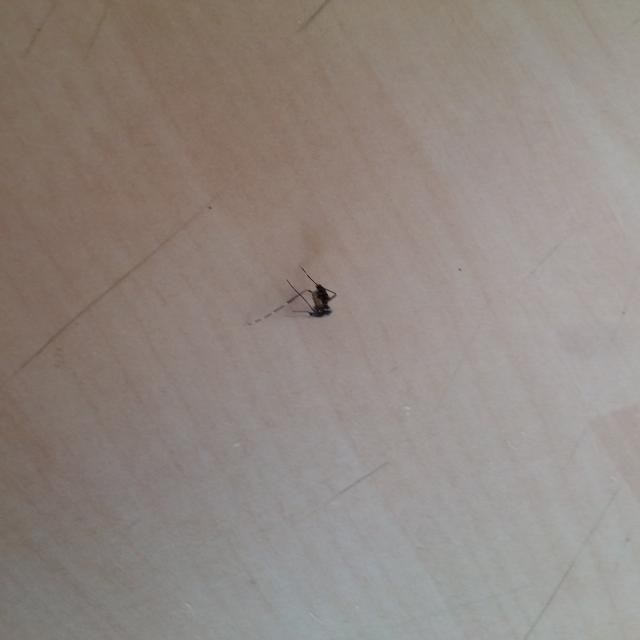albopictus: (242, 260, 352, 323)
